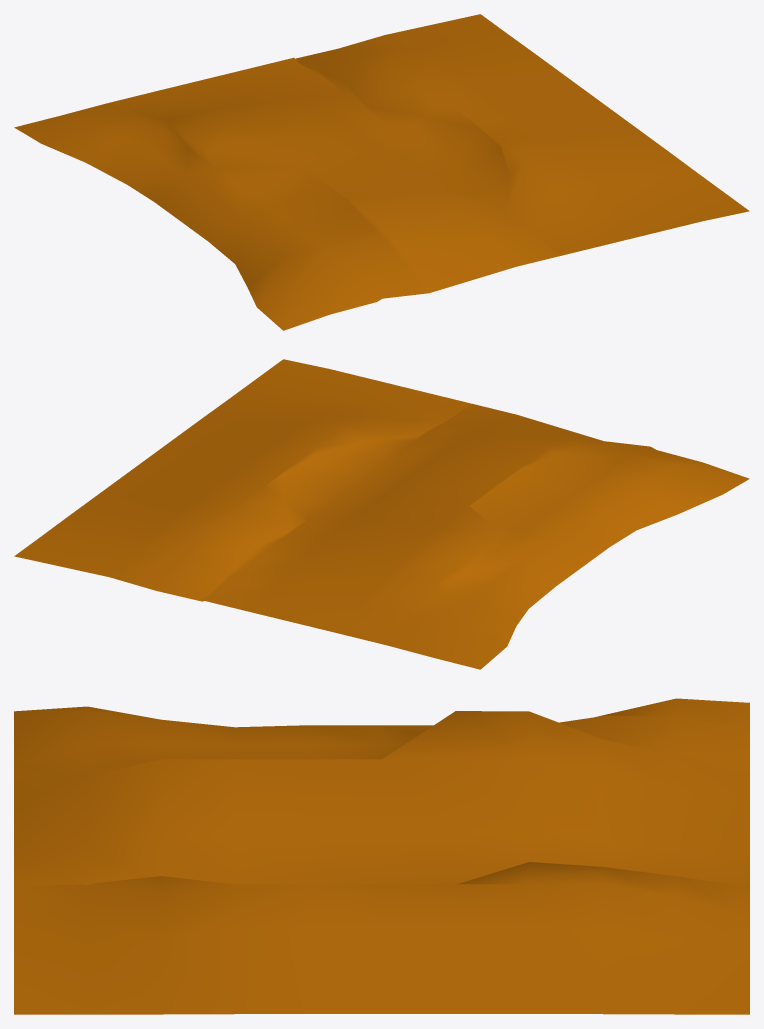
File: Sand.fbx
3 renders of one model, top to bottom at view 1: azimuth 30°, elevation 25°; view 2: azimuth 150°, elevation 25°; view 3: azimuth 270°, elevation 25°, orthographic. The views are drawn at different scales.
Visible parts, largest first — view 1: pPlane1; view 2: pPlane1; view 3: pPlane1.
Boxes of the visible parts, left/top/right/bottom form: pPlane1: left=14, top=14, right=749, bottom=330; pPlane1: left=14, top=359, right=749, bottom=669; pPlane1: left=14, top=698, right=749, bottom=1014.
Size of the model in its own units: 100 by 8.53 by 100.
